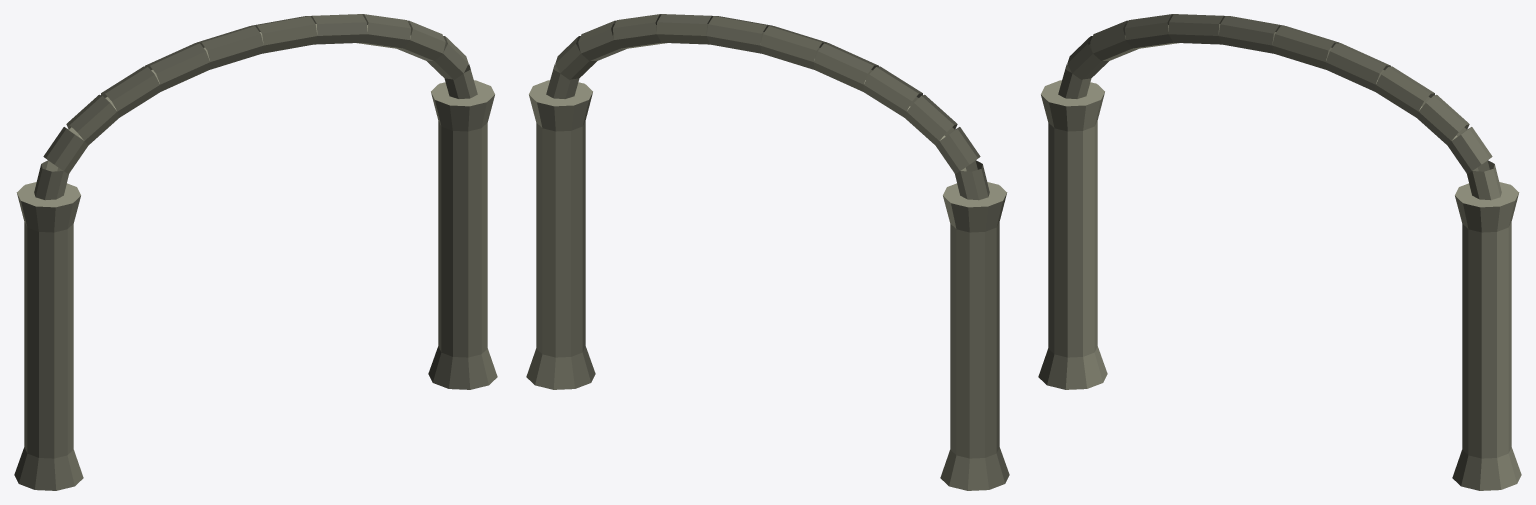
3 views of the same model, side by side, from view 1: azimuth 30°, elevation 25°; view 2: azimuth 150°, elevation 25°; view 3: azimuth 330°, elevation 25° (orthographic).
Parts seen in each view (by area): view 1: 88e29fbf688d2c8759566a3532b40cd4a890fcf7c730f0909b96b28bad12; view 2: 88e29fbf688d2c8759566a3532b40cd4a890fcf7c730f0909b96b28bad12; view 3: 88e29fbf688d2c8759566a3532b40cd4a890fcf7c730f0909b96b28bad12.
Part boxes in pixels (x1,y1,x2,y2): 88e29fbf688d2c8759566a3532b40cd4a890fcf7c730f0909b96b28bad12: (14, 14, 497, 490); 88e29fbf688d2c8759566a3532b40cd4a890fcf7c730f0909b96b28bad12: (526, 14, 1009, 490); 88e29fbf688d2c8759566a3532b40cd4a890fcf7c730f0909b96b28bad12: (1038, 14, 1521, 490).
Size of the model in its own units: 5.27 by 4.25 by 0.6391.
